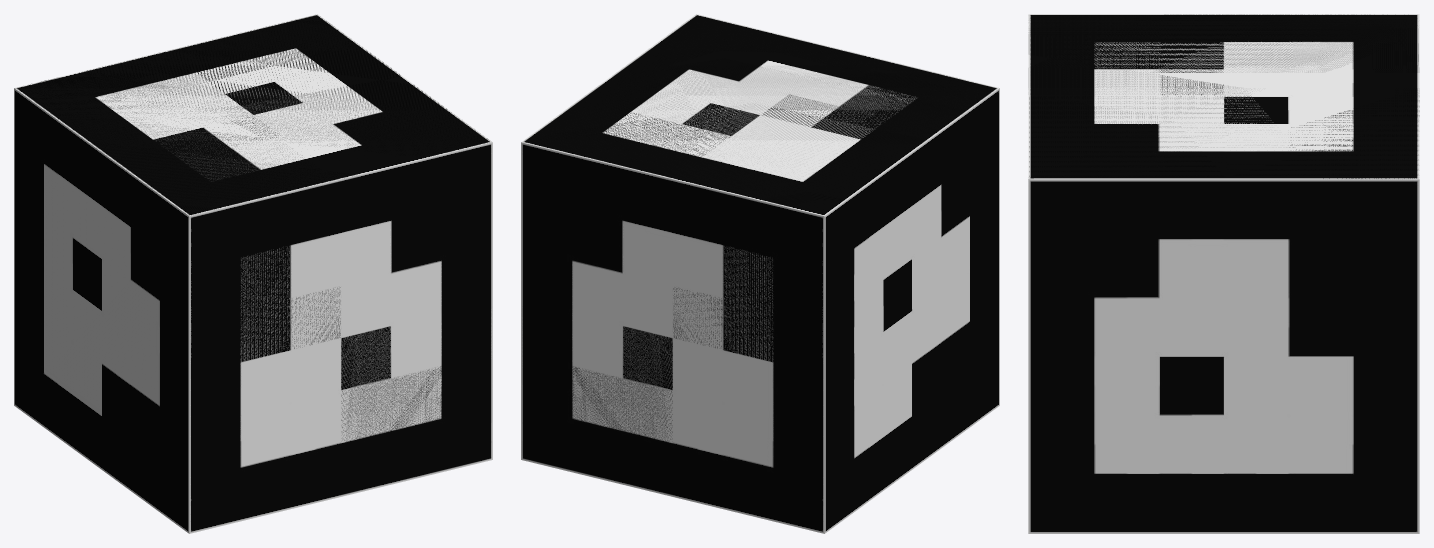
The model's file is aruco_cube_60.obj.
The picture shows the model from 3 angles, left to right: view 1: azimuth 30°, elevation 25°; view 2: azimuth 150°, elevation 25°; view 3: azimuth 270°, elevation 25°; orthographic projection. The views are drawn at different scales.
Parts seen in each view (by area): view 1: Cube; view 2: Cube; view 3: Cube.
Boxes of the visible parts, x1,y1,x2,y2 form: Cube: (14,14,492,533); Cube: (521,14,999,533); Cube: (1028,14,1419,533).
Size of the model in its own units: 1 by 1 by 1.
Materials: 1 (1 with a texture image).
